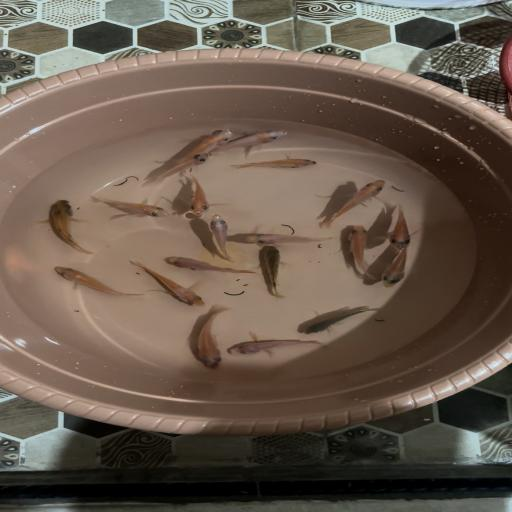nila: (123, 260, 210, 308), (320, 178, 389, 231), (39, 196, 97, 256), (53, 263, 147, 300), (298, 303, 388, 338), (190, 305, 232, 374), (139, 152, 214, 188), (226, 333, 328, 358), (252, 244, 296, 300), (342, 221, 382, 282), (164, 254, 258, 278), (90, 195, 175, 221), (221, 127, 291, 156), (372, 249, 419, 292), (176, 127, 238, 159), (229, 154, 321, 173), (242, 230, 339, 248), (205, 212, 239, 262), (385, 204, 416, 250), (182, 172, 210, 220)
